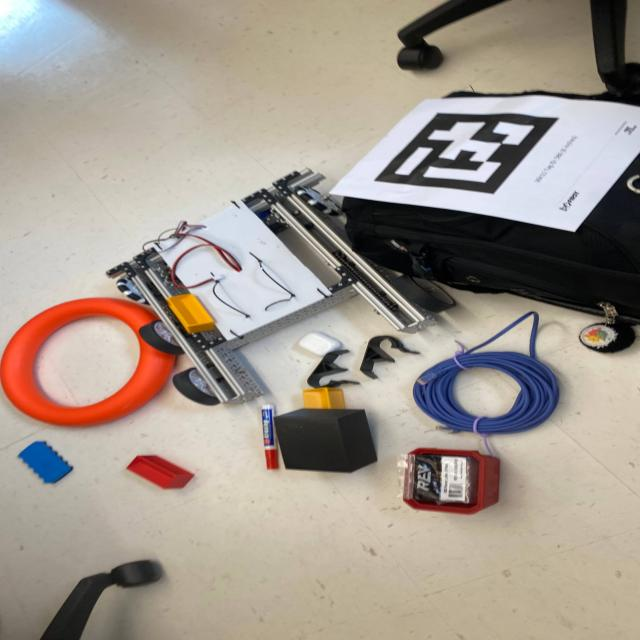red-specimen: (126, 455, 194, 489)
yellow-specimen: (167, 294, 216, 334), (303, 387, 345, 409)
